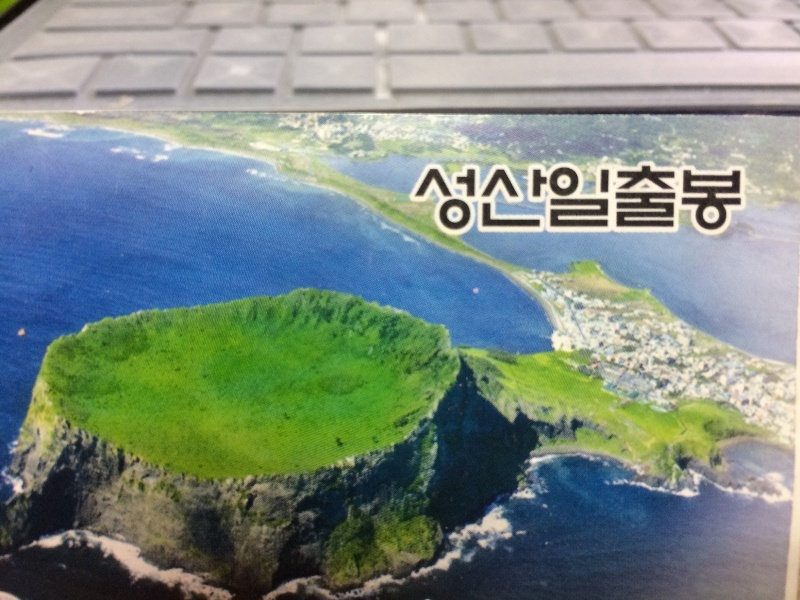text: (417, 160, 432, 237), (433, 160, 448, 237), (449, 160, 464, 237), (465, 160, 480, 237), (481, 160, 496, 237), (497, 160, 512, 237), (513, 160, 528, 237), (529, 160, 544, 237), (545, 160, 560, 237), (561, 160, 576, 237), (577, 160, 592, 237), (593, 160, 608, 237), (609, 160, 624, 237), (625, 160, 640, 237), (641, 160, 656, 237), (657, 160, 672, 237), (673, 160, 688, 237), (689, 160, 704, 237), (705, 160, 720, 237), (721, 160, 736, 237), (737, 160, 747, 237), (410, 160, 416, 237)
